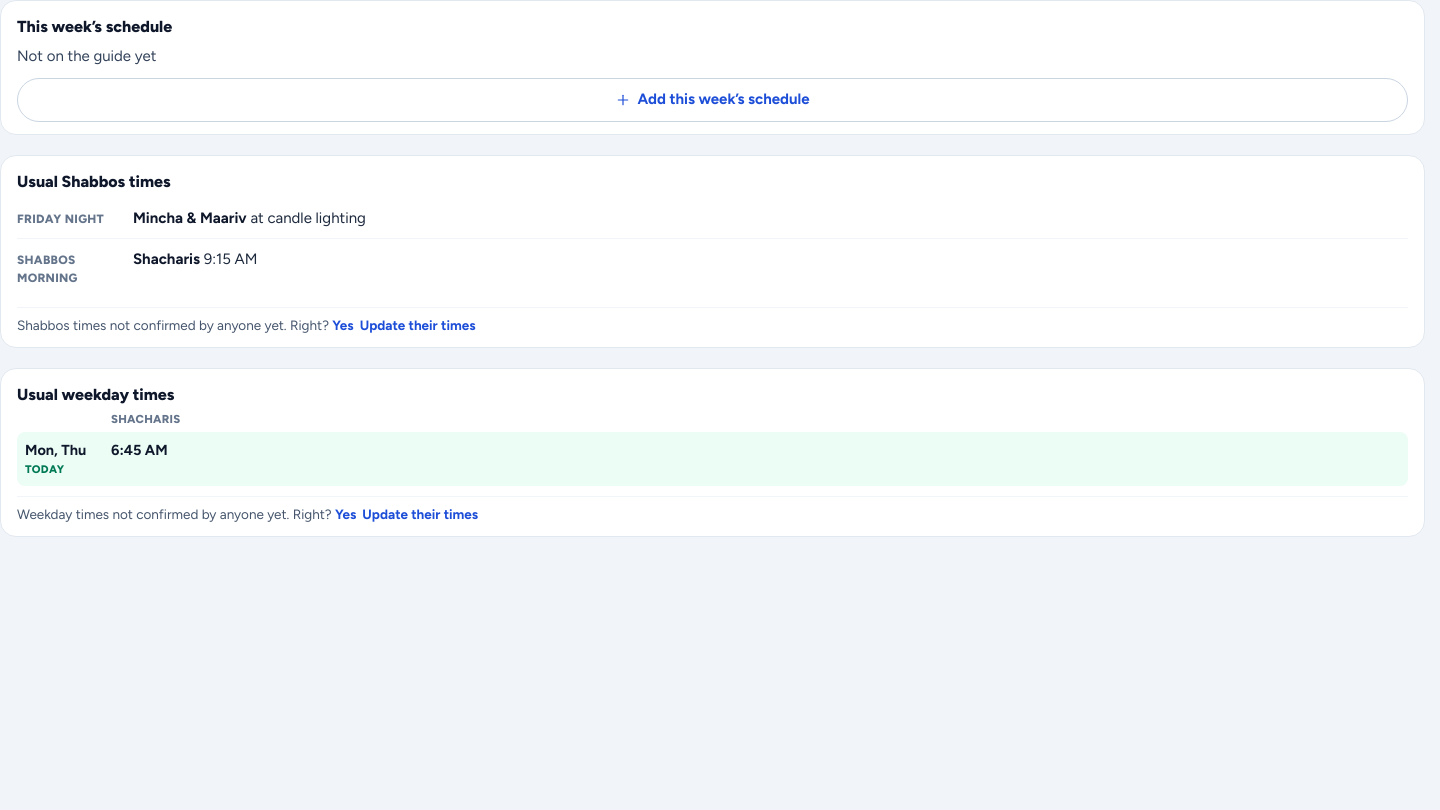
Test: this week’s schedule (Oct 6) › waits for this week’s from a shul that sends one out, with Add opening in the box
The width and height of the screenshot is (1440, 810).
Expected: the element with test id "davening-this-week-waiting" reads "This week’s schedule Not on the guide yet Add this week’s schedule", [0, 0, 1425, 134]
Click the button "Add this week’s schedule" at (712, 100), box [17, 78, 1408, 122]
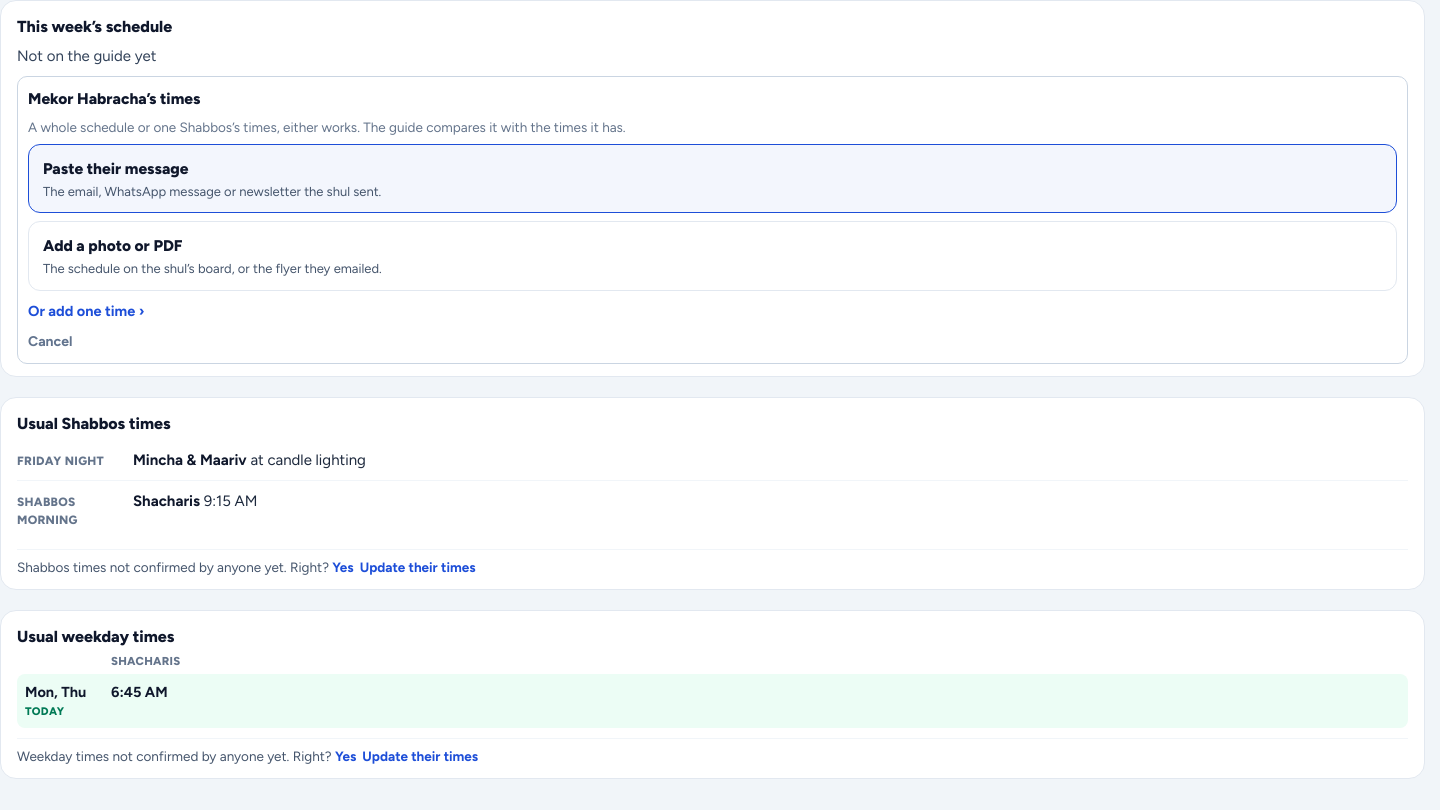
Expected: the element with test id "davening-shabbos" shows "Shacharis 9:15 AM", [0, 397, 1425, 590]
Now the element with test id "update-times" is shown, box [17, 76, 1408, 364]
